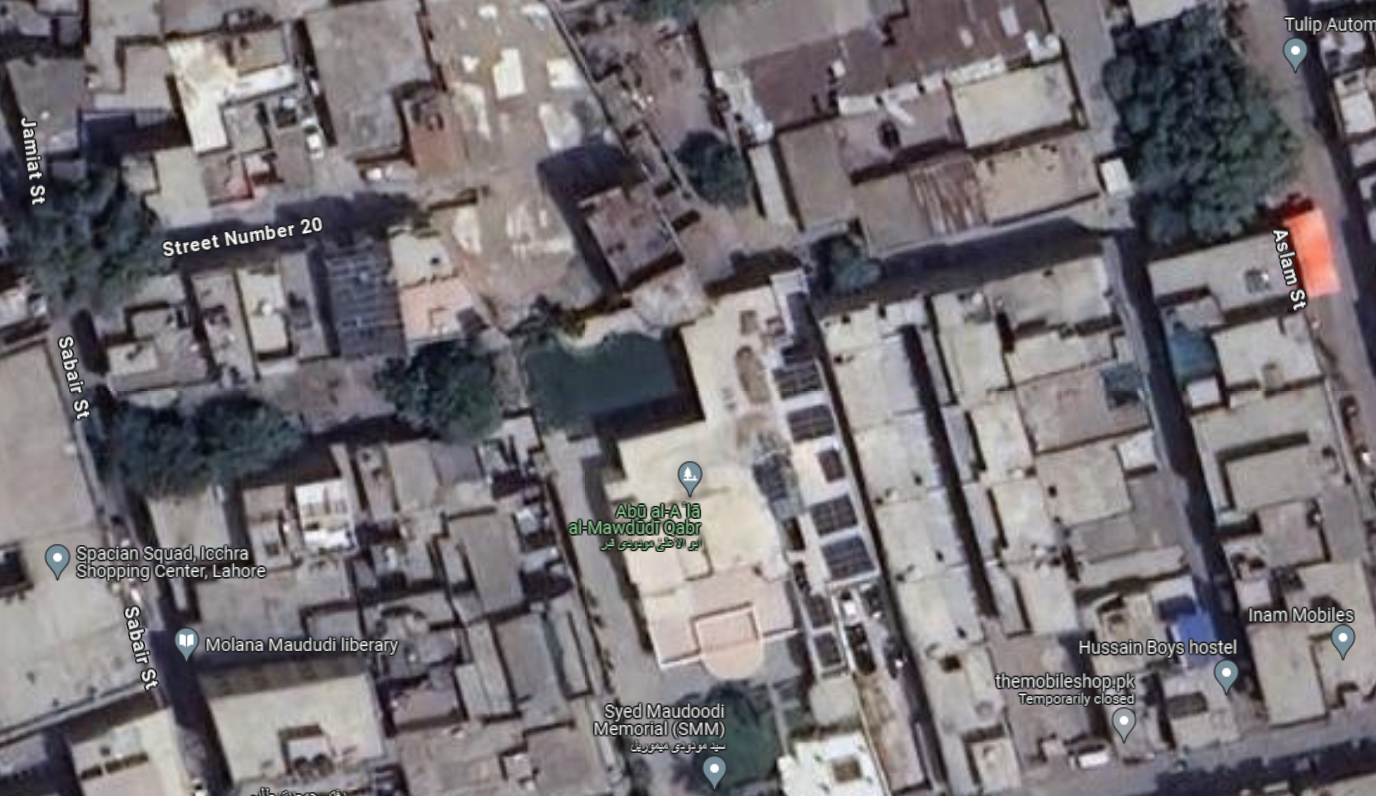solar-panel: (768, 352, 869, 585), (322, 252, 405, 359)
